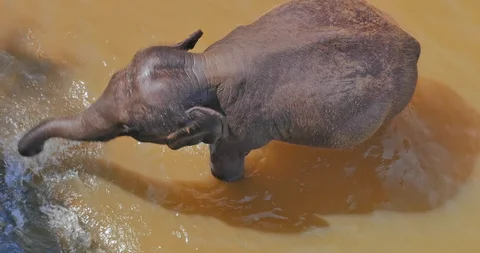Adult Elephant: (32, 28, 411, 181)
